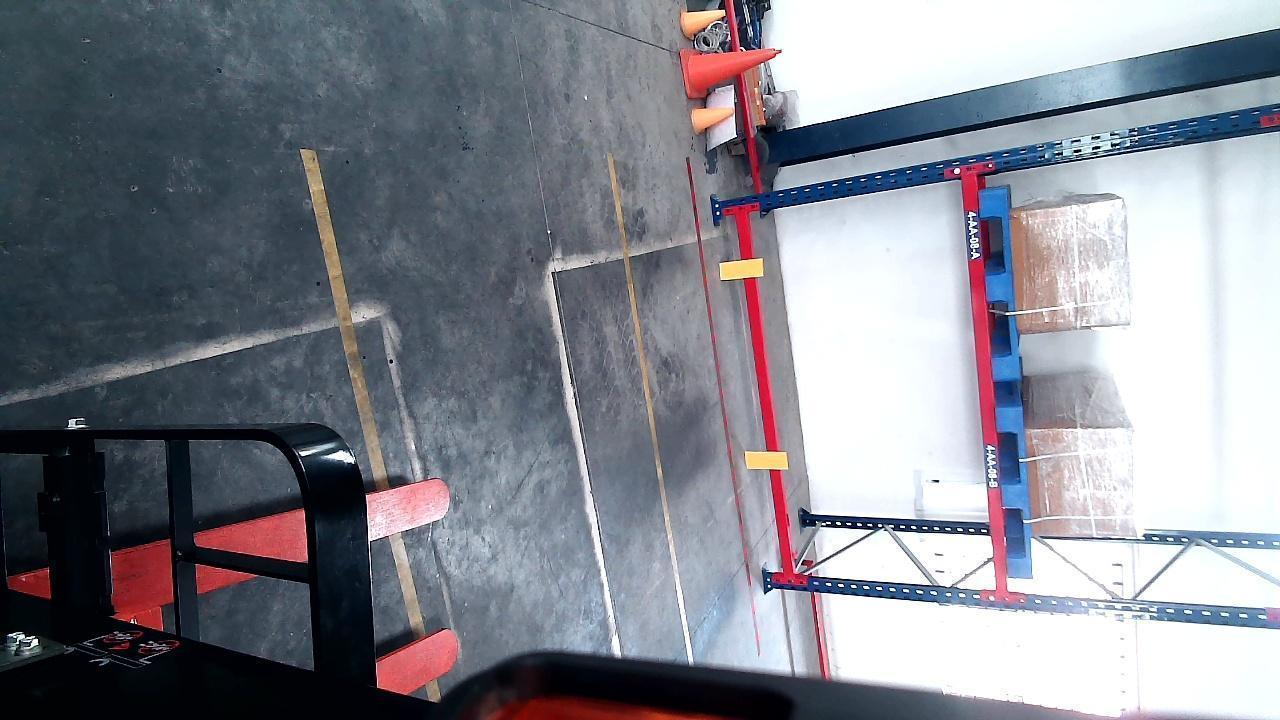red_line: (685, 154, 765, 655)
yellow_line: (299, 146, 445, 703), (602, 146, 700, 667)
